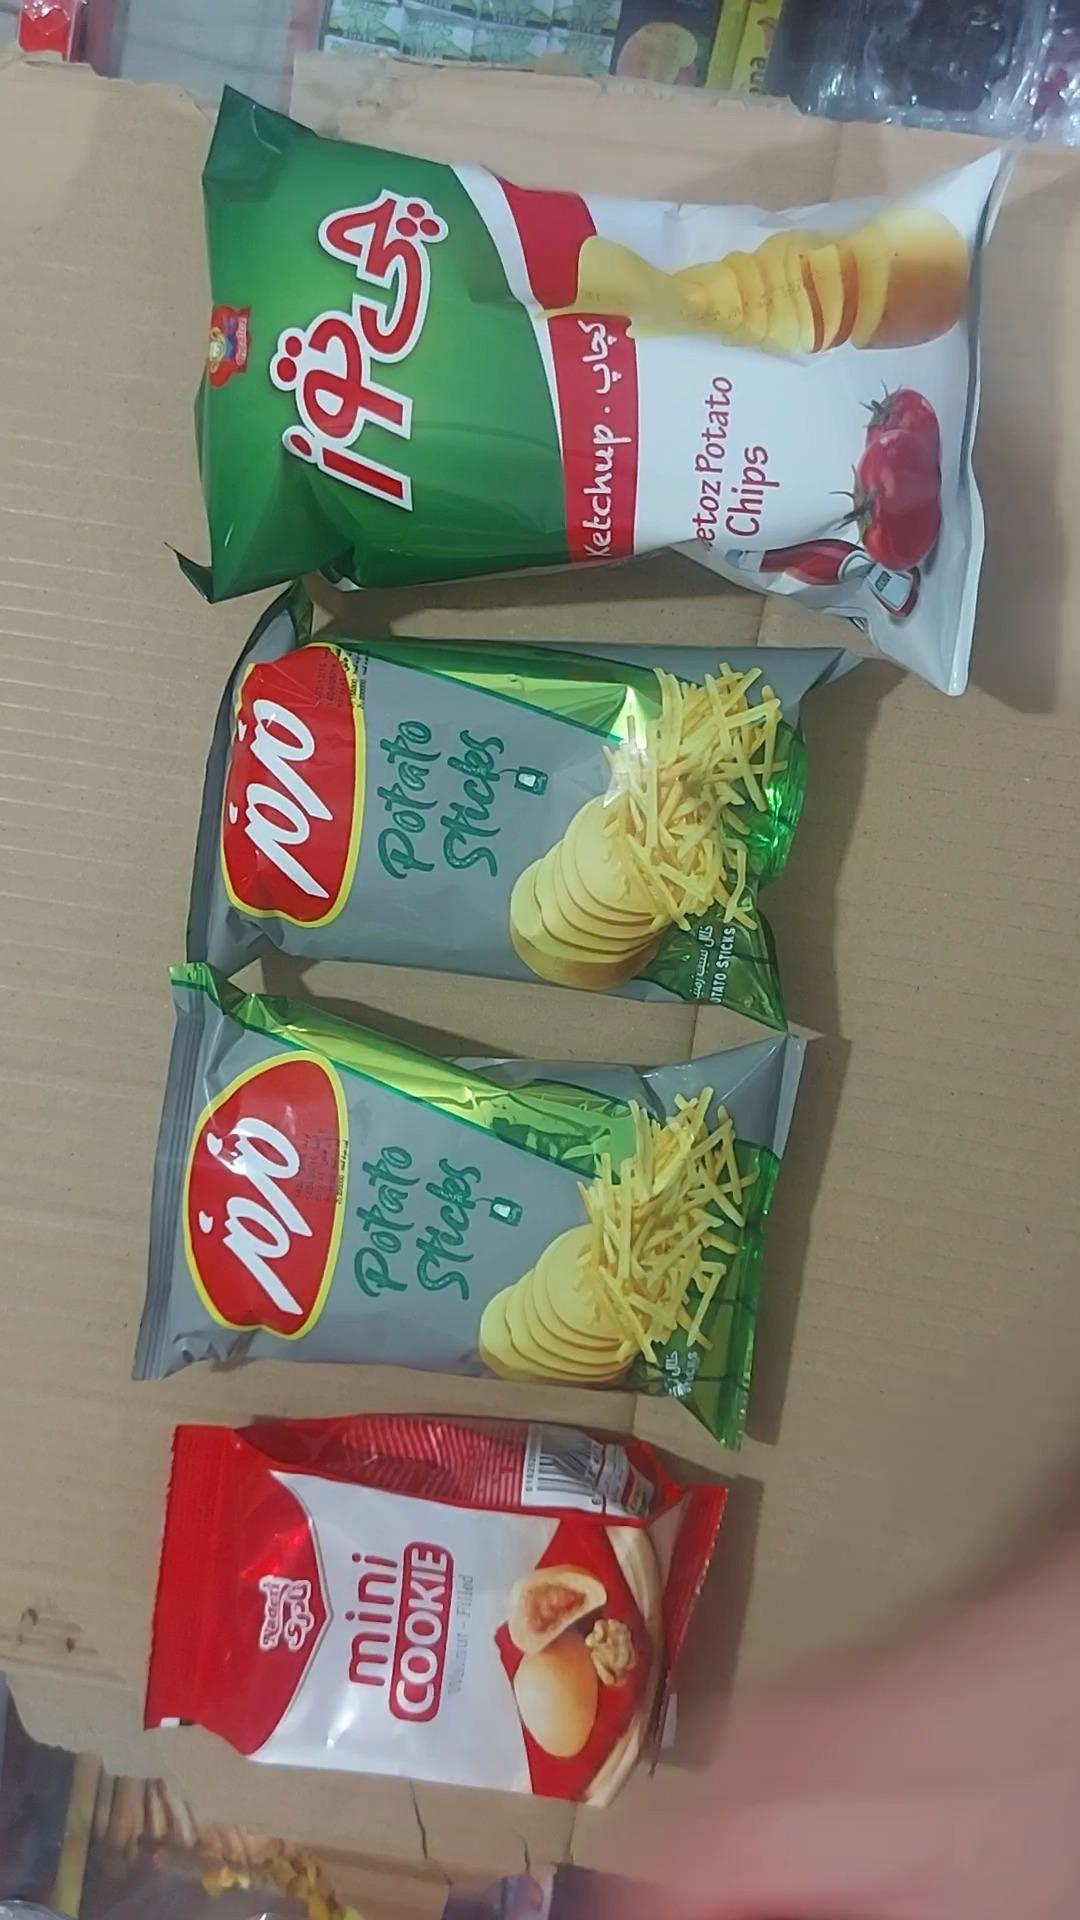Cheetoz ketchup chips: (194, 88, 1014, 699)
Maz Maz potato sticks: (133, 964, 804, 1453), (189, 579, 847, 1034)
Naderi mini cookie: (142, 1416, 731, 1809)
